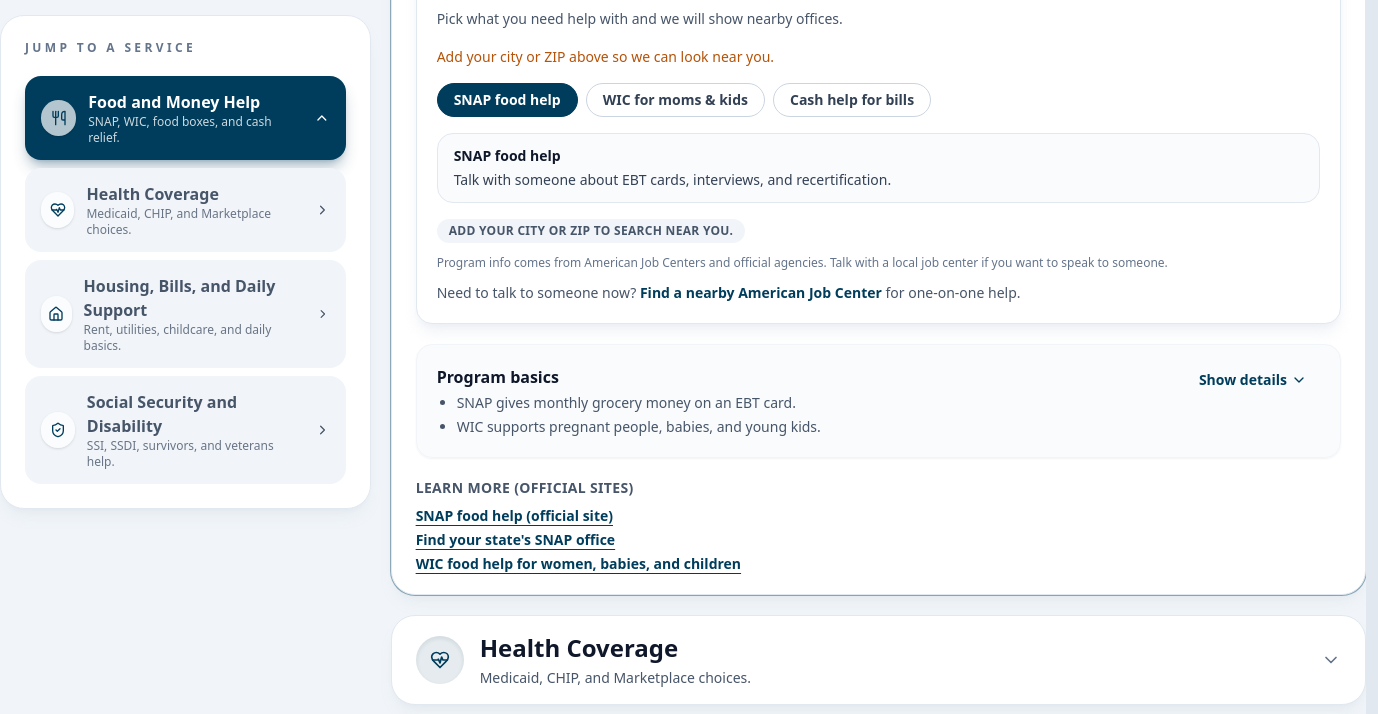
Test: BenefitsClient › reveals guidance headings after expanding a program basics section
(page scrolled)
Click the button "Show details" at (1253, 380), box 1186,365 -> 1320,395
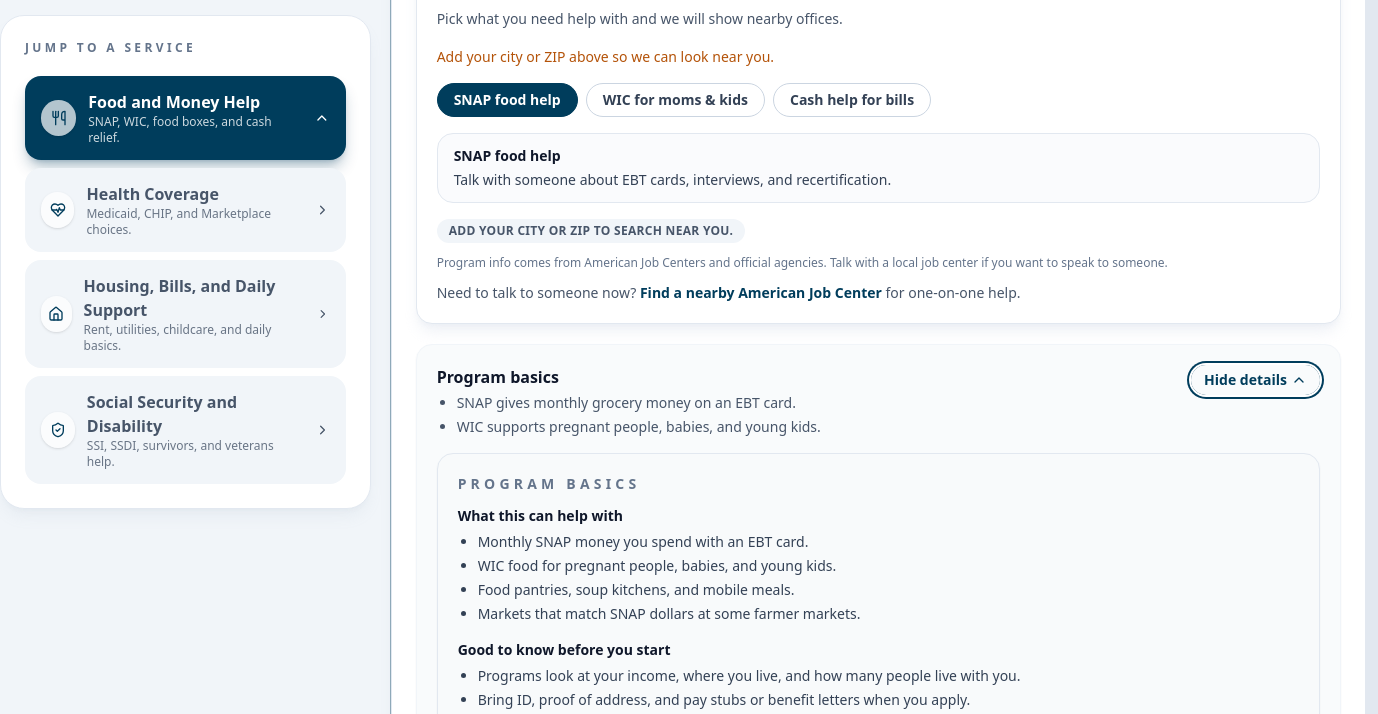
Expected: the heading "What this can help with" is shown, 458,506 -> 623,525
